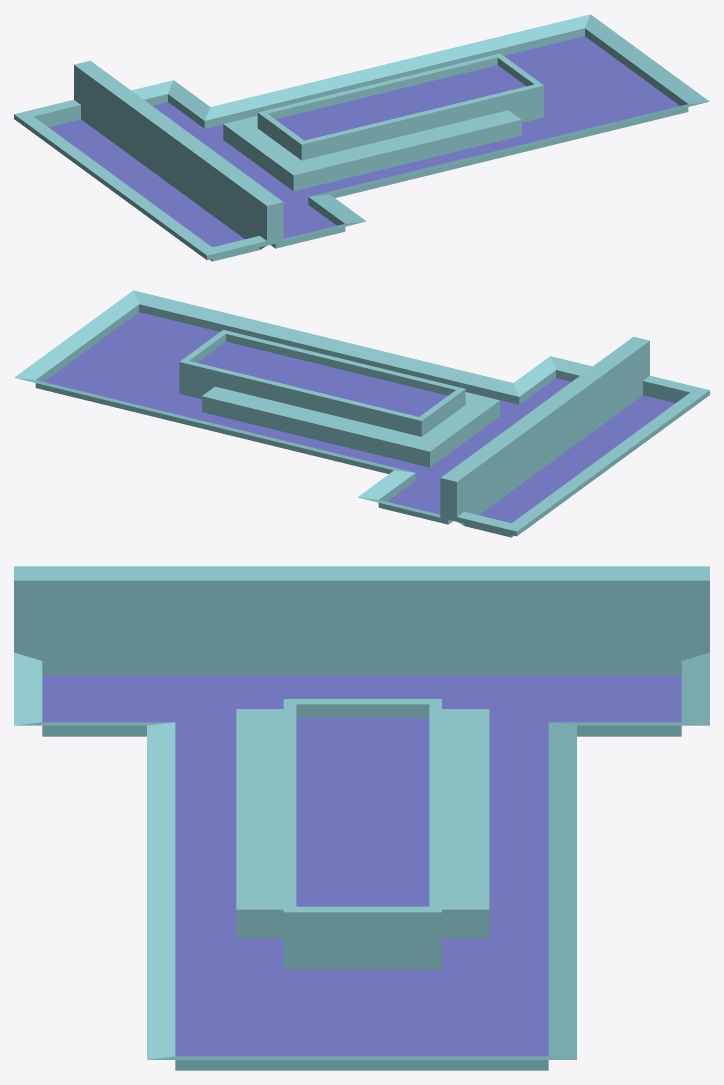
Rendered from PracaAguas.FBX.
3 views of the same model, one above another, from view 1: azimuth 30°, elevation 25°; view 2: azimuth 150°, elevation 25°; view 3: azimuth 270°, elevation 25° (orthographic). The views are drawn at different scales.
Parts seen in each view (by area): view 1: pracaAguas; view 2: pracaAguas; view 3: pracaAguas.
Boxes of the visible parts, x1,y1,x2,y2 form: pracaAguas: [14, 14, 709, 261]; pracaAguas: [14, 290, 709, 537]; pracaAguas: [14, 566, 709, 1070].
Bounding box in the file's own units: 1398 × 130 × 866.
